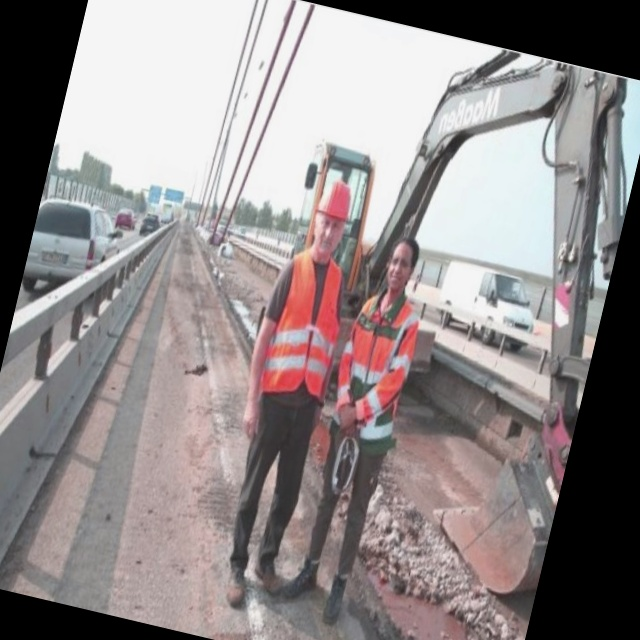Con_Casco: (309, 178, 358, 254)
Con_Chaleco: (325, 290, 421, 445), (259, 247, 351, 405)
Sin_Casco_Mascarrilla: (385, 231, 422, 291)
